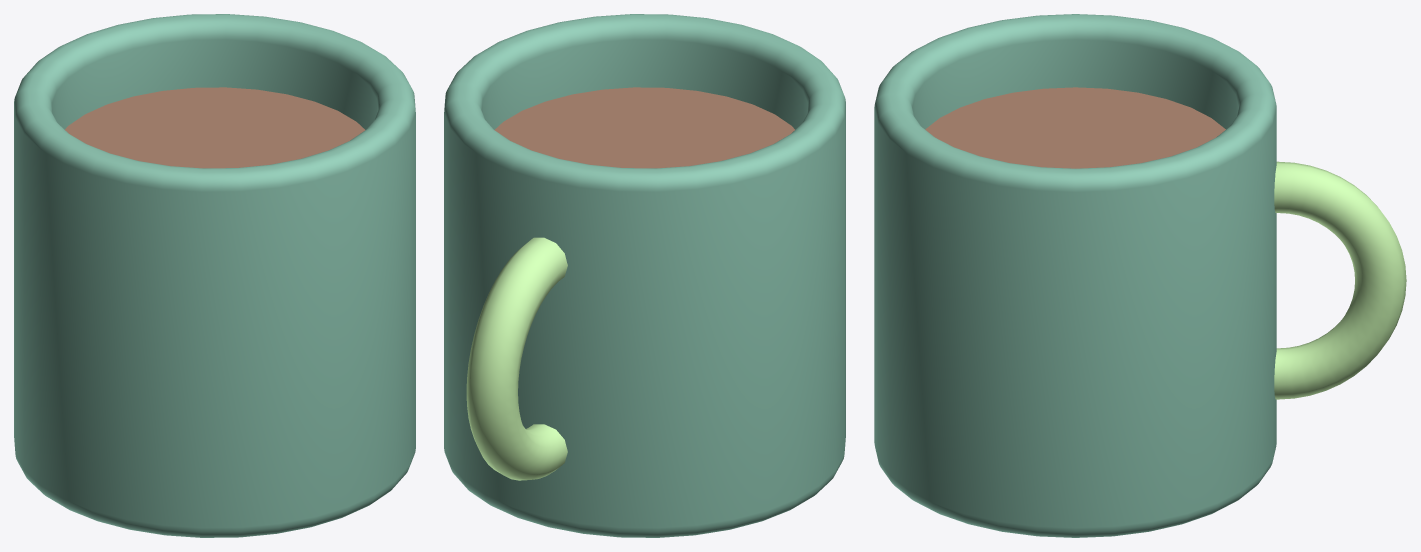
Rendered from asset.glb.
3 renders of one model, left to right at view 1: azimuth 30°, elevation 25°; view 2: azimuth 150°, elevation 25°; view 3: azimuth 270°, elevation 25°, orthographic.
Parts seen in each view (by area): view 1: 円柱; view 2: 円柱, トーラス; view 3: 円柱, トーラス.
Boxes of the visible parts, left/top/right/bottom form: 円柱: left=14, top=14, right=415, bottom=537; 円柱: left=444, top=14, right=845, bottom=537; トーラス: left=466, top=237, right=567, bottom=480; 円柱: left=874, top=14, right=1276, bottom=537; トーラス: left=1274, top=161, right=1406, bottom=399.
Size of the model in its own units: 2 by 2 by 2.65.
